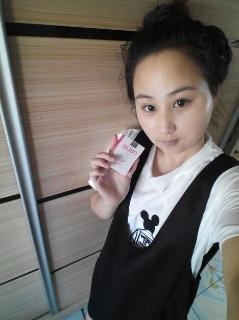short sleeve top: (88, 129, 239, 298)
vest: (87, 129, 239, 319)
